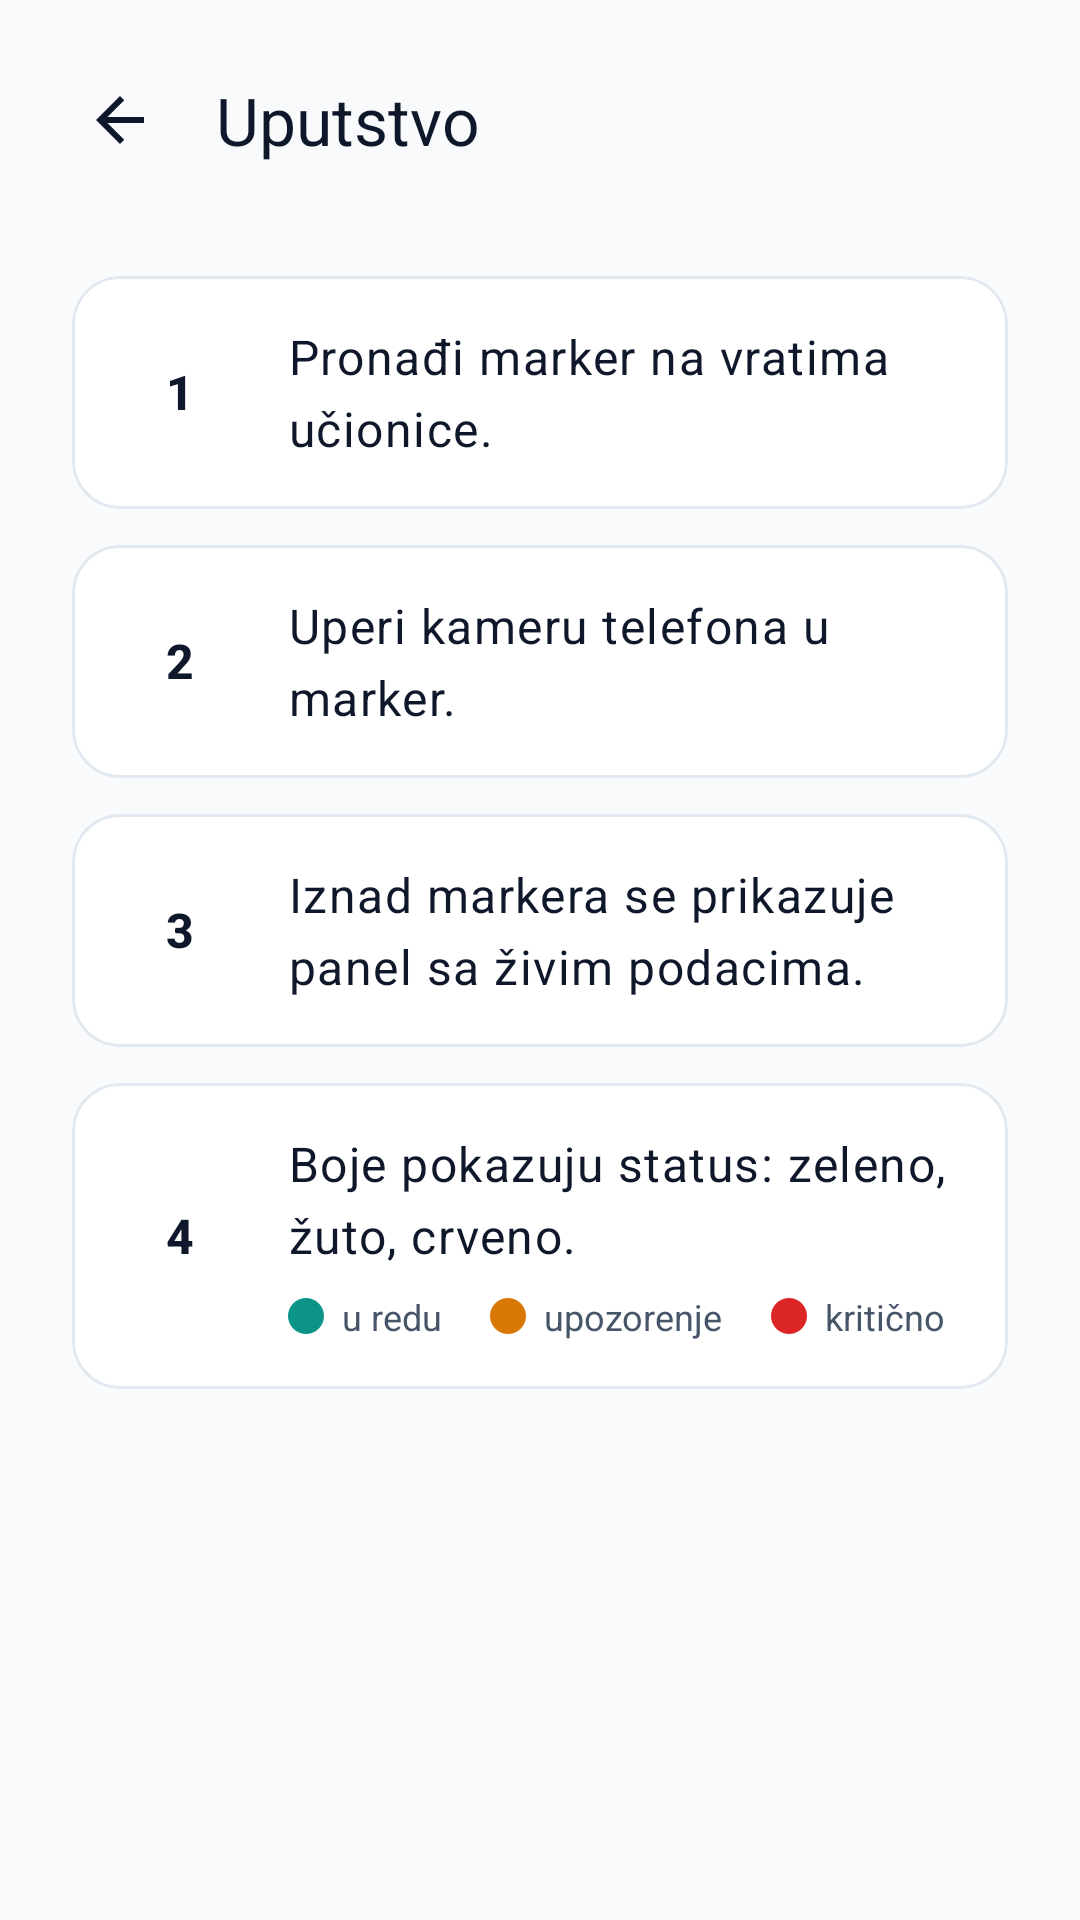

Named icons in this screenshot (1080x1920) and their centers, point (x, y):
Nazad: point (120, 120)
